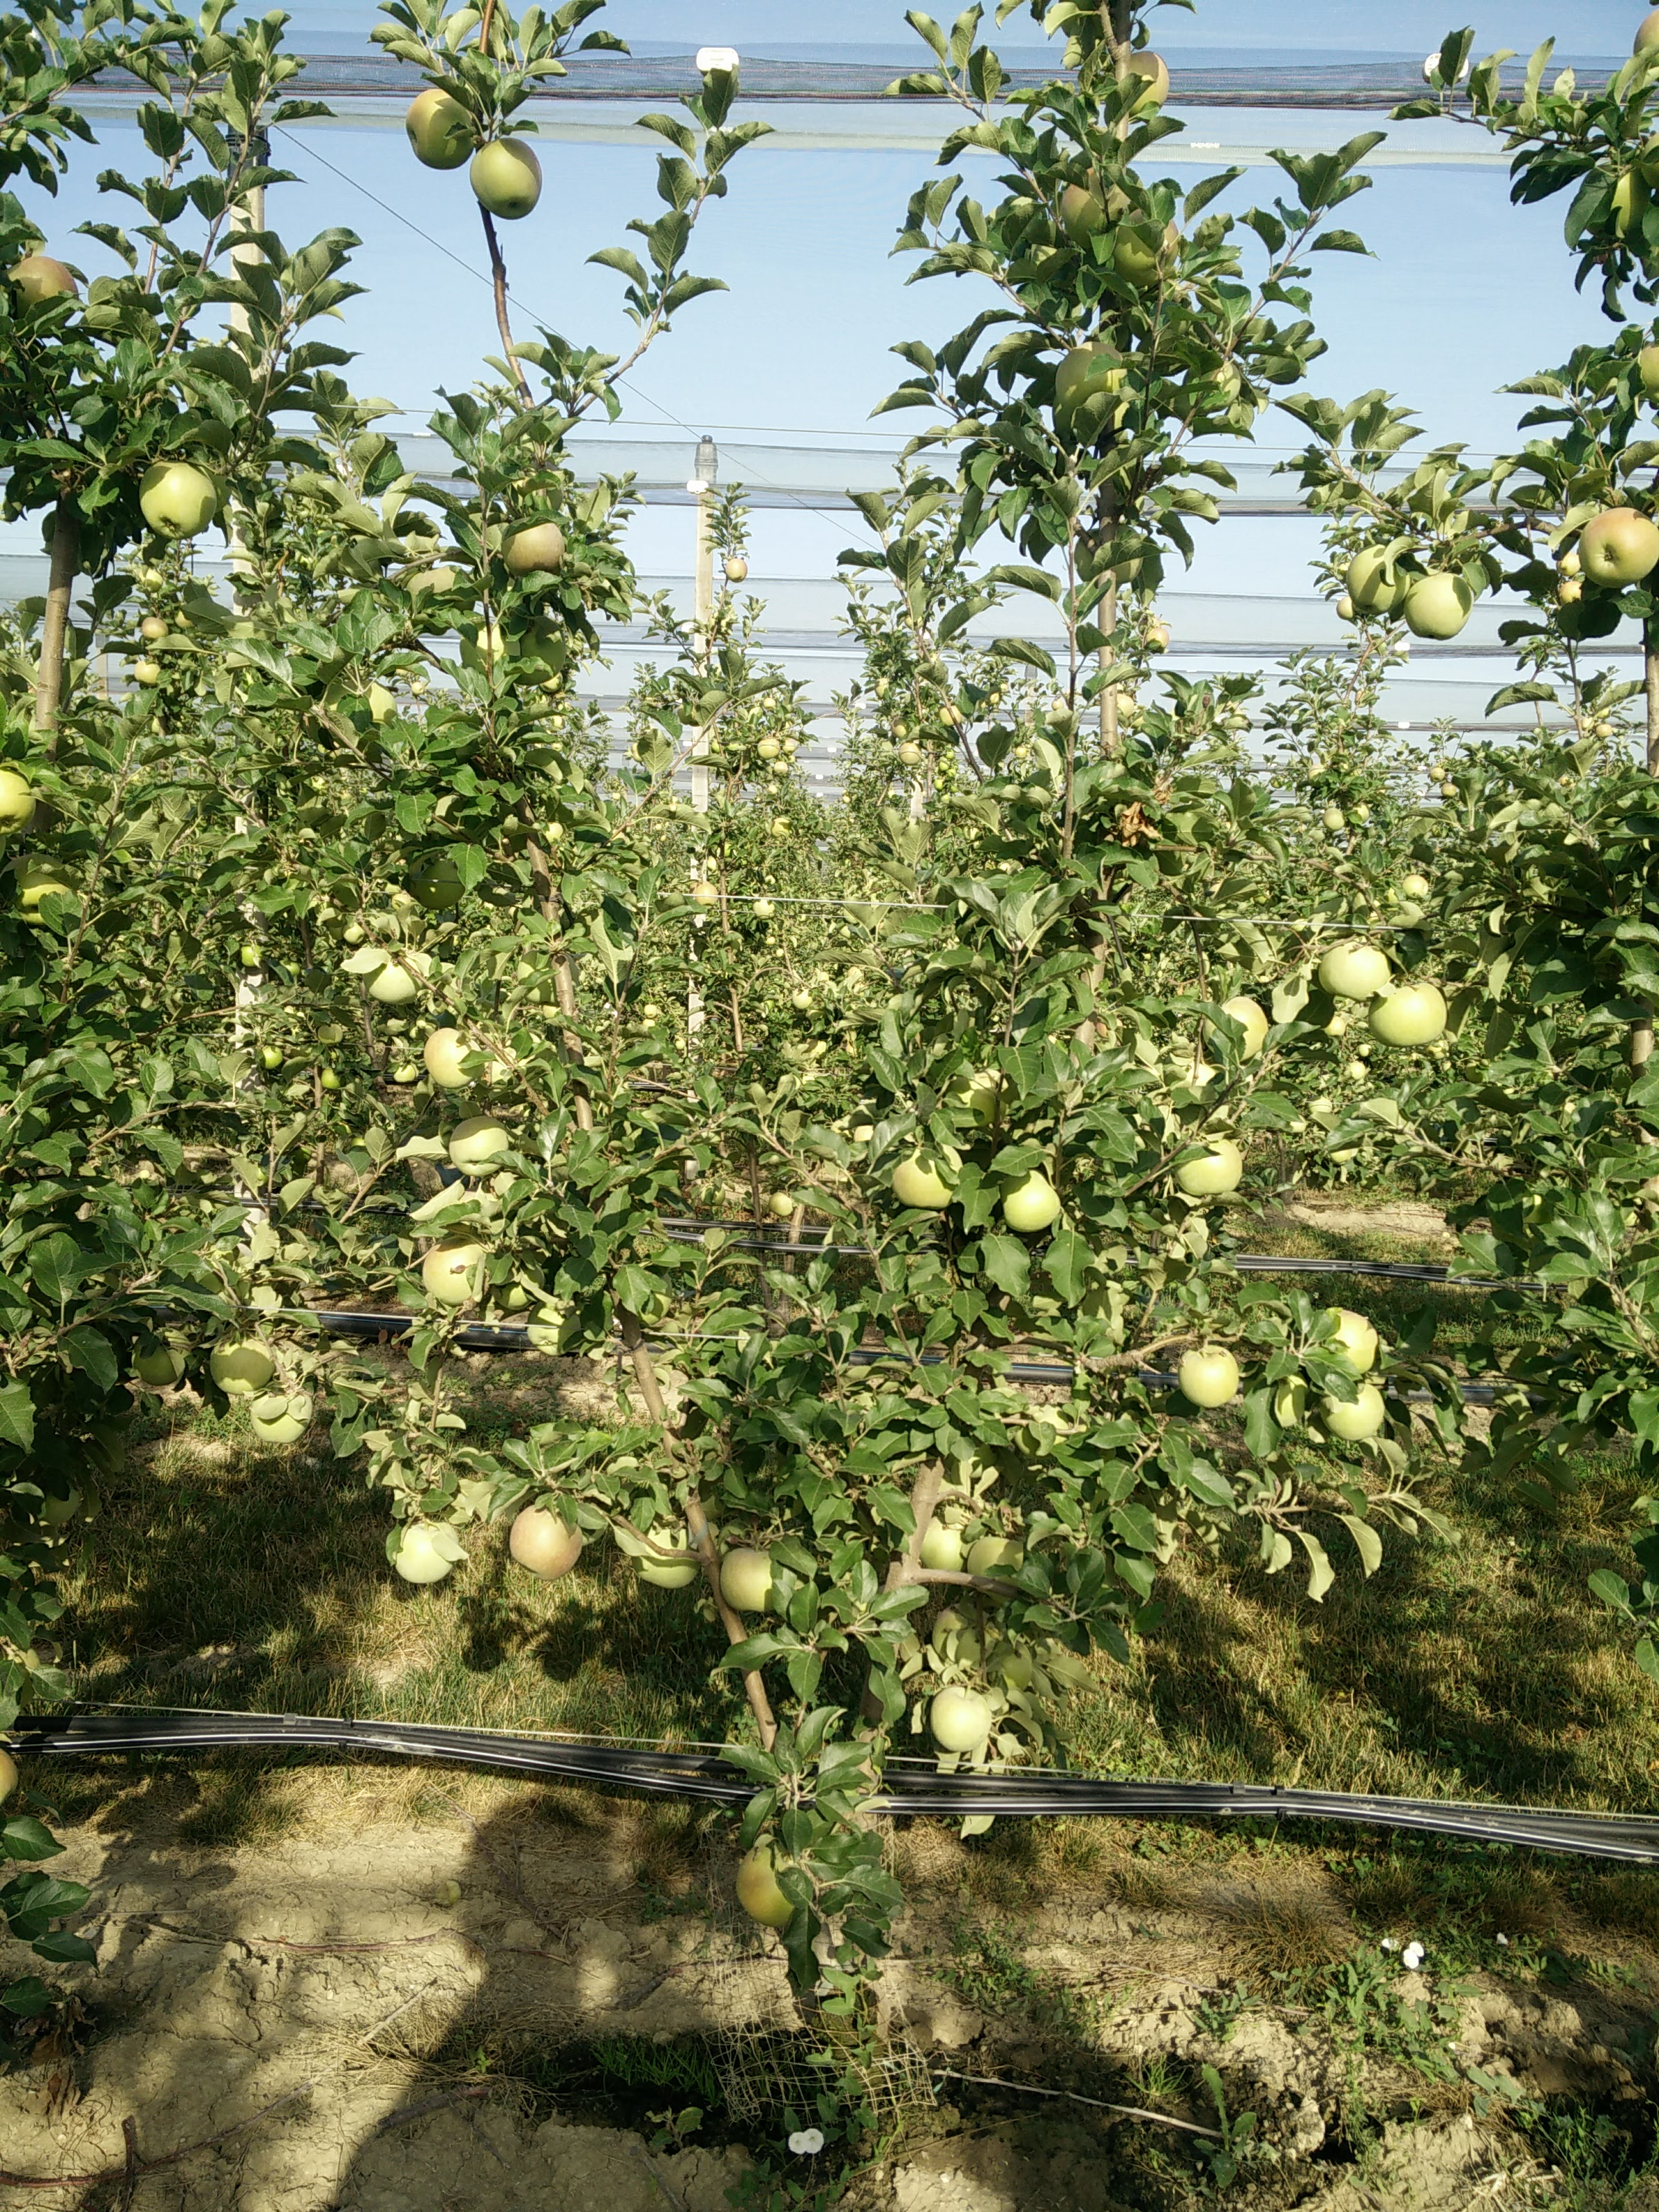apple: (1571, 508, 1659, 589), (731, 1848, 811, 1928), (136, 460, 214, 542), (465, 136, 540, 218), (405, 88, 478, 170), (505, 1501, 581, 1577), (890, 1140, 966, 1211), (1405, 563, 1474, 639), (719, 1544, 796, 1613), (1171, 1129, 1244, 1199), (1317, 1376, 1389, 1448), (1311, 937, 1394, 997), (1349, 541, 1416, 617), (1371, 982, 1447, 1044), (426, 1237, 491, 1306), (1055, 351, 1126, 413), (1177, 1346, 1241, 1412), (362, 942, 429, 1007), (930, 1684, 994, 1752), (209, 1333, 278, 1396), (1002, 1164, 1057, 1239), (392, 1521, 456, 1584), (450, 1115, 510, 1177), (422, 1028, 484, 1089), (1315, 1308, 1376, 1369), (506, 512, 563, 576)
